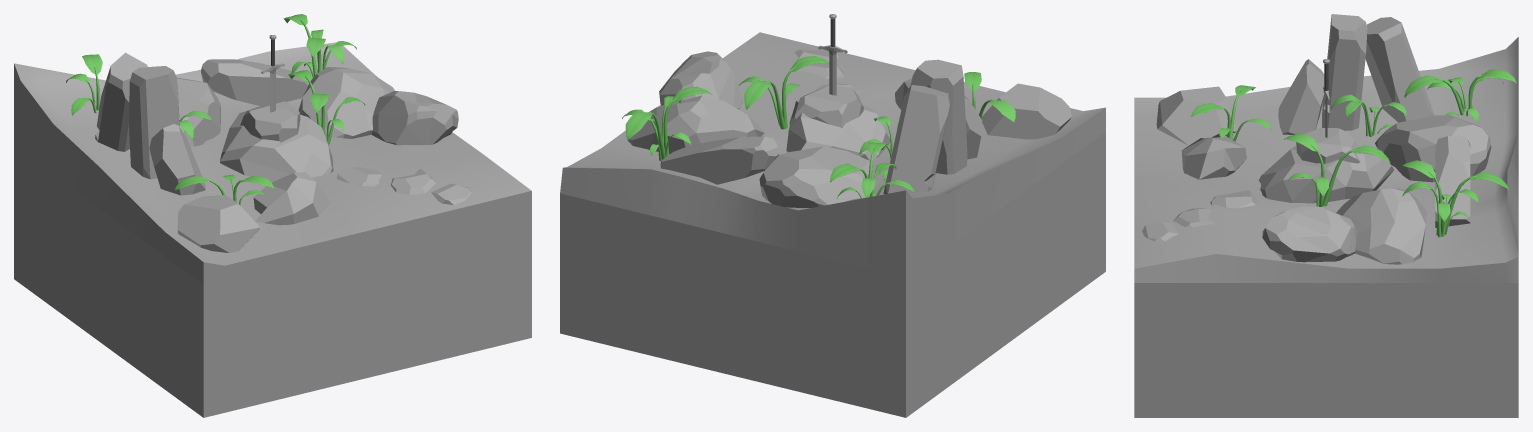
File: SwordinStone.fbx
3 renders of one model, left to right at view 1: azimuth 30°, elevation 25°; view 2: azimuth 150°, elevation 25°; view 3: azimuth 270°, elevation 25°, orthographic. The views are drawn at different scales.
Visible parts, largest first — view 1: Floor, Rock1, Rock3, Rock7, Rock13, Large_Rock05, Rock9, polySurface1, Rock12, Rock6, Rock10, Rock11 (+8 smaller); view 2: Floor, Rock10, Rock12, Rock3, Rock9, Large_Rock05, Rock7, Rock1, Rock13, Rock11, pCylinder20, pCylinder18 (+4 smaller); view 3: Floor, Rock3, Rock1, Rock12, Rock13, Rock10, Rock7, Large_Rock05, Rock9, Rock6, polySurface1, pCylinder20 (+8 smaller).
Part boxes in pixels (x1,y1,x2,y2): Floor: (14,42,531,417); Rock1: (220,111,333,181); Rock3: (298,67,394,138); Rock7: (129,66,179,179); Rock13: (371,91,458,145); Large_Rock05: (177,195,260,252); Rock9: (201,59,309,106); polySurface1: (253,172,330,225); Rock12: (95,52,147,151); Rock6: (149,124,205,195); Rock10: (176,77,220,147); Rock11: (240,101,300,142); Floor: (560,32,1105,417); Rock10: (759,146,883,207); Rock12: (883,85,950,194); Rock3: (628,95,764,154); Rock9: (660,136,779,184); Large_Rock05: (981,83,1071,139); Rock7: (910,59,967,174); Rock1: (786,100,890,160); Rock13: (659,51,742,109); Rock11: (795,85,863,128); pCylinder20: (622,86,711,161); pCylinder18: (739,56,829,129); Floor: (1134,37,1518,417); Rock3: (1336,188,1426,264); Rock1: (1258,145,1393,203); Rock12: (1365,17,1434,122); Rock13: (1262,207,1357,262); Rock10: (1375,115,1491,182); Rock7: (1322,14,1367,130); Large_Rock05: (1156,86,1236,145); Rock9: (1435,136,1470,227); Rock6: (1278,59,1324,134); polySurface1: (1181,137,1246,179); pCylinder20: (1401,160,1509,237).
Bounding box in the file's own units: 90.68 × 71.49 × 89.97.
